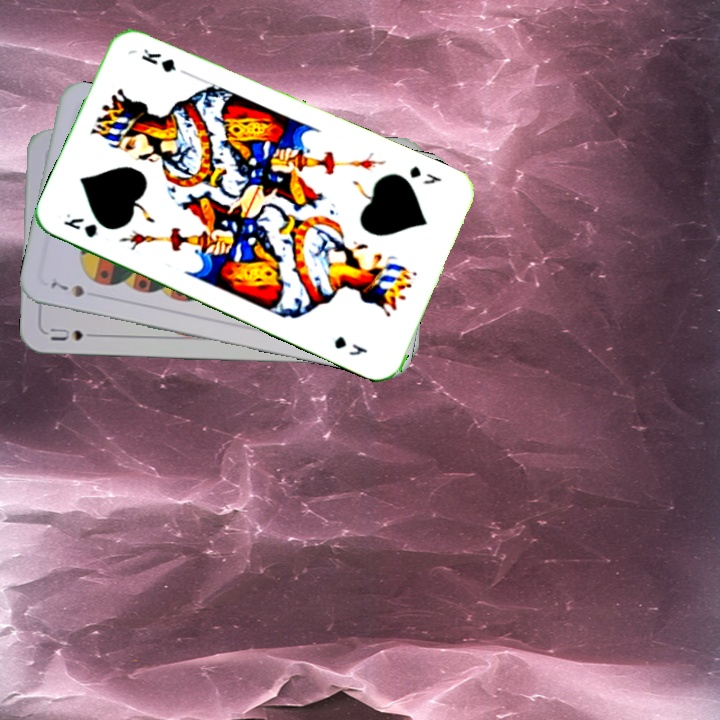GK: (59, 209, 100, 240), (405, 161, 445, 187)
S7: (47, 277, 87, 300)
SU: (46, 324, 103, 344)
